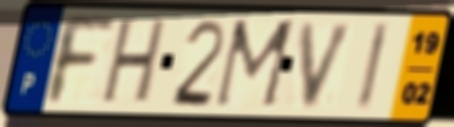2: (169, 17, 228, 109)
F: (45, 12, 117, 108)
H: (97, 17, 170, 107)
I: (353, 20, 393, 114)
M: (210, 17, 300, 112)
V: (298, 20, 358, 112)
